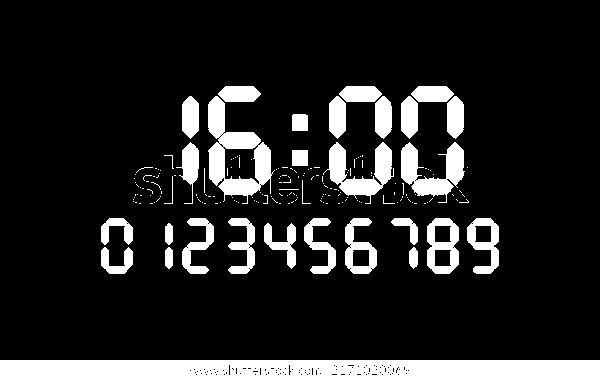dot: (290, 111, 310, 135), (290, 149, 308, 168)
eight: (427, 218, 458, 274)
five: (304, 218, 336, 274)
four: (263, 221, 295, 268)
nine: (467, 218, 500, 274)
one: (181, 97, 200, 184), (163, 222, 174, 268)
seven: (390, 218, 419, 270)
six: (345, 218, 377, 274)
three: (225, 219, 255, 274)
two: (183, 218, 214, 273)
zero: (101, 218, 133, 274)
